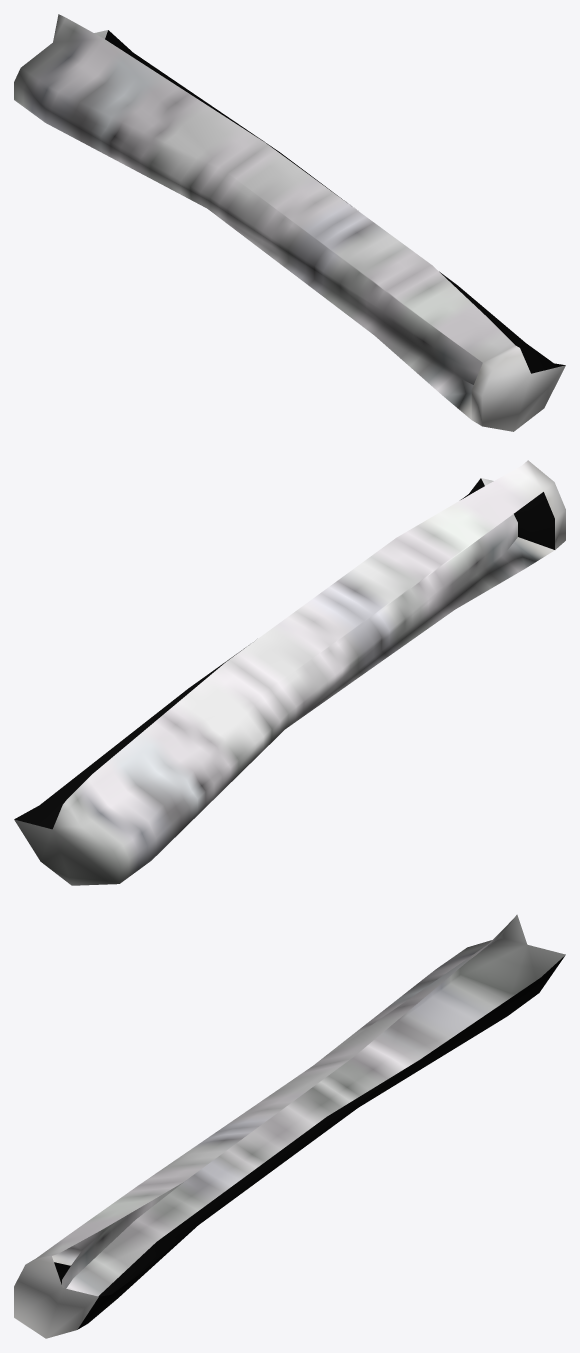
The picture shows the model from 3 angles, top to bottom: view 1: azimuth 30°, elevation 25°; view 2: azimuth 150°, elevation 25°; view 3: azimuth 330°, elevation 25°; orthographic projection. The views are drawn at different scales.
Parts seen in each view (by area): view 1: wg_l_a_u; view 2: wg_l_a_u; view 3: wg_l_a_u.
Part boxes in pixels (left/top/right/bottom): wg_l_a_u: left=14, top=14, right=565, bottom=431; wg_l_a_u: left=14, top=460, right=565, bottom=885; wg_l_a_u: left=14, top=914, right=565, bottom=1338.
Size of the model in its own units: 0.2625 by 0.2136 by 2.11.
3 materials, 2 textured.
